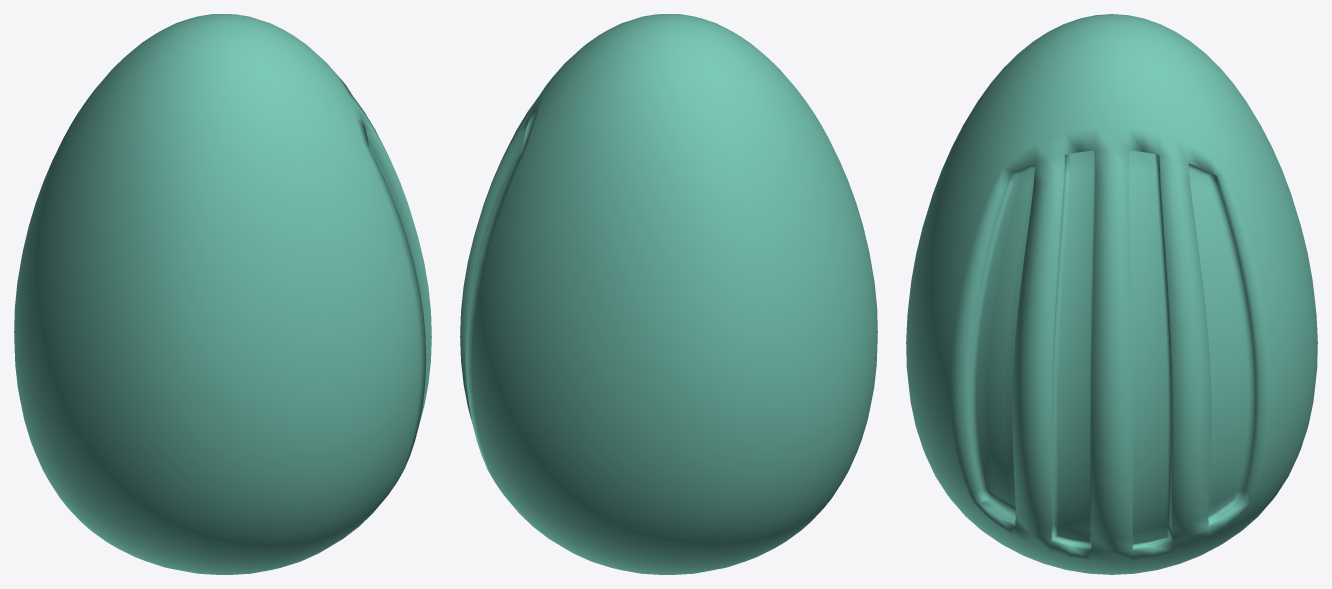
The model's file is Slime Egg  4.fbx.
The picture shows the model from 3 angles, left to right: view 1: azimuth 30°, elevation 25°; view 2: azimuth 150°, elevation 25°; view 3: azimuth 270°, elevation 25°; orthographic projection.
Parts seen in each view (by area): view 1: Slime Egg 1.004; view 2: Slime Egg 1.004; view 3: Slime Egg 1.004.
Part boxes in pixels (x1=…): Slime Egg 1.004: x1=14, y1=14, x2=431, y2=574; Slime Egg 1.004: x1=460, y1=14, x2=877, y2=574; Slime Egg 1.004: x1=906, y1=14, x2=1317, y2=574.
Size of the model in its own units: 256 by 362 by 256.
